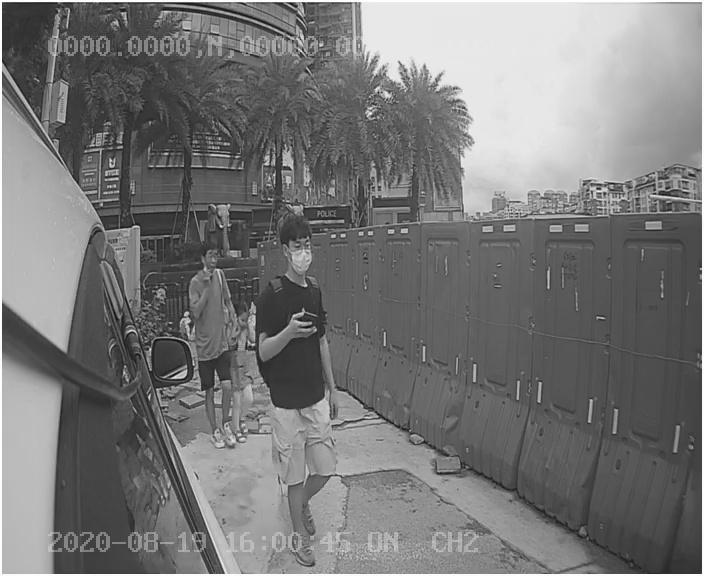person: (249, 215, 360, 527)
